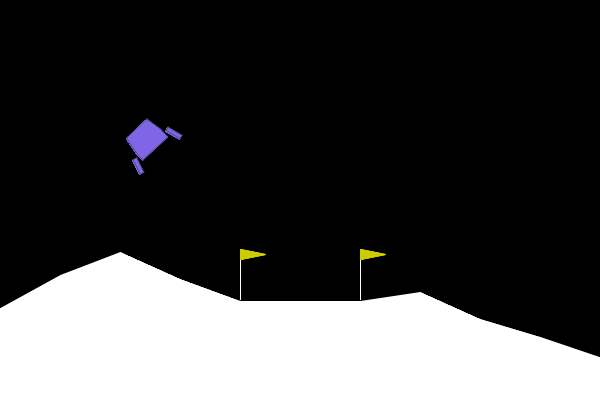lander: (113, 107, 184, 177)
